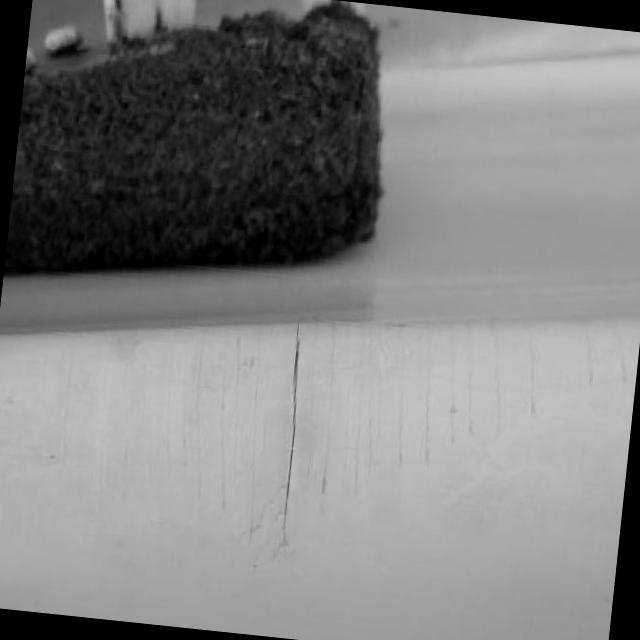crack: (274, 324, 308, 542)
